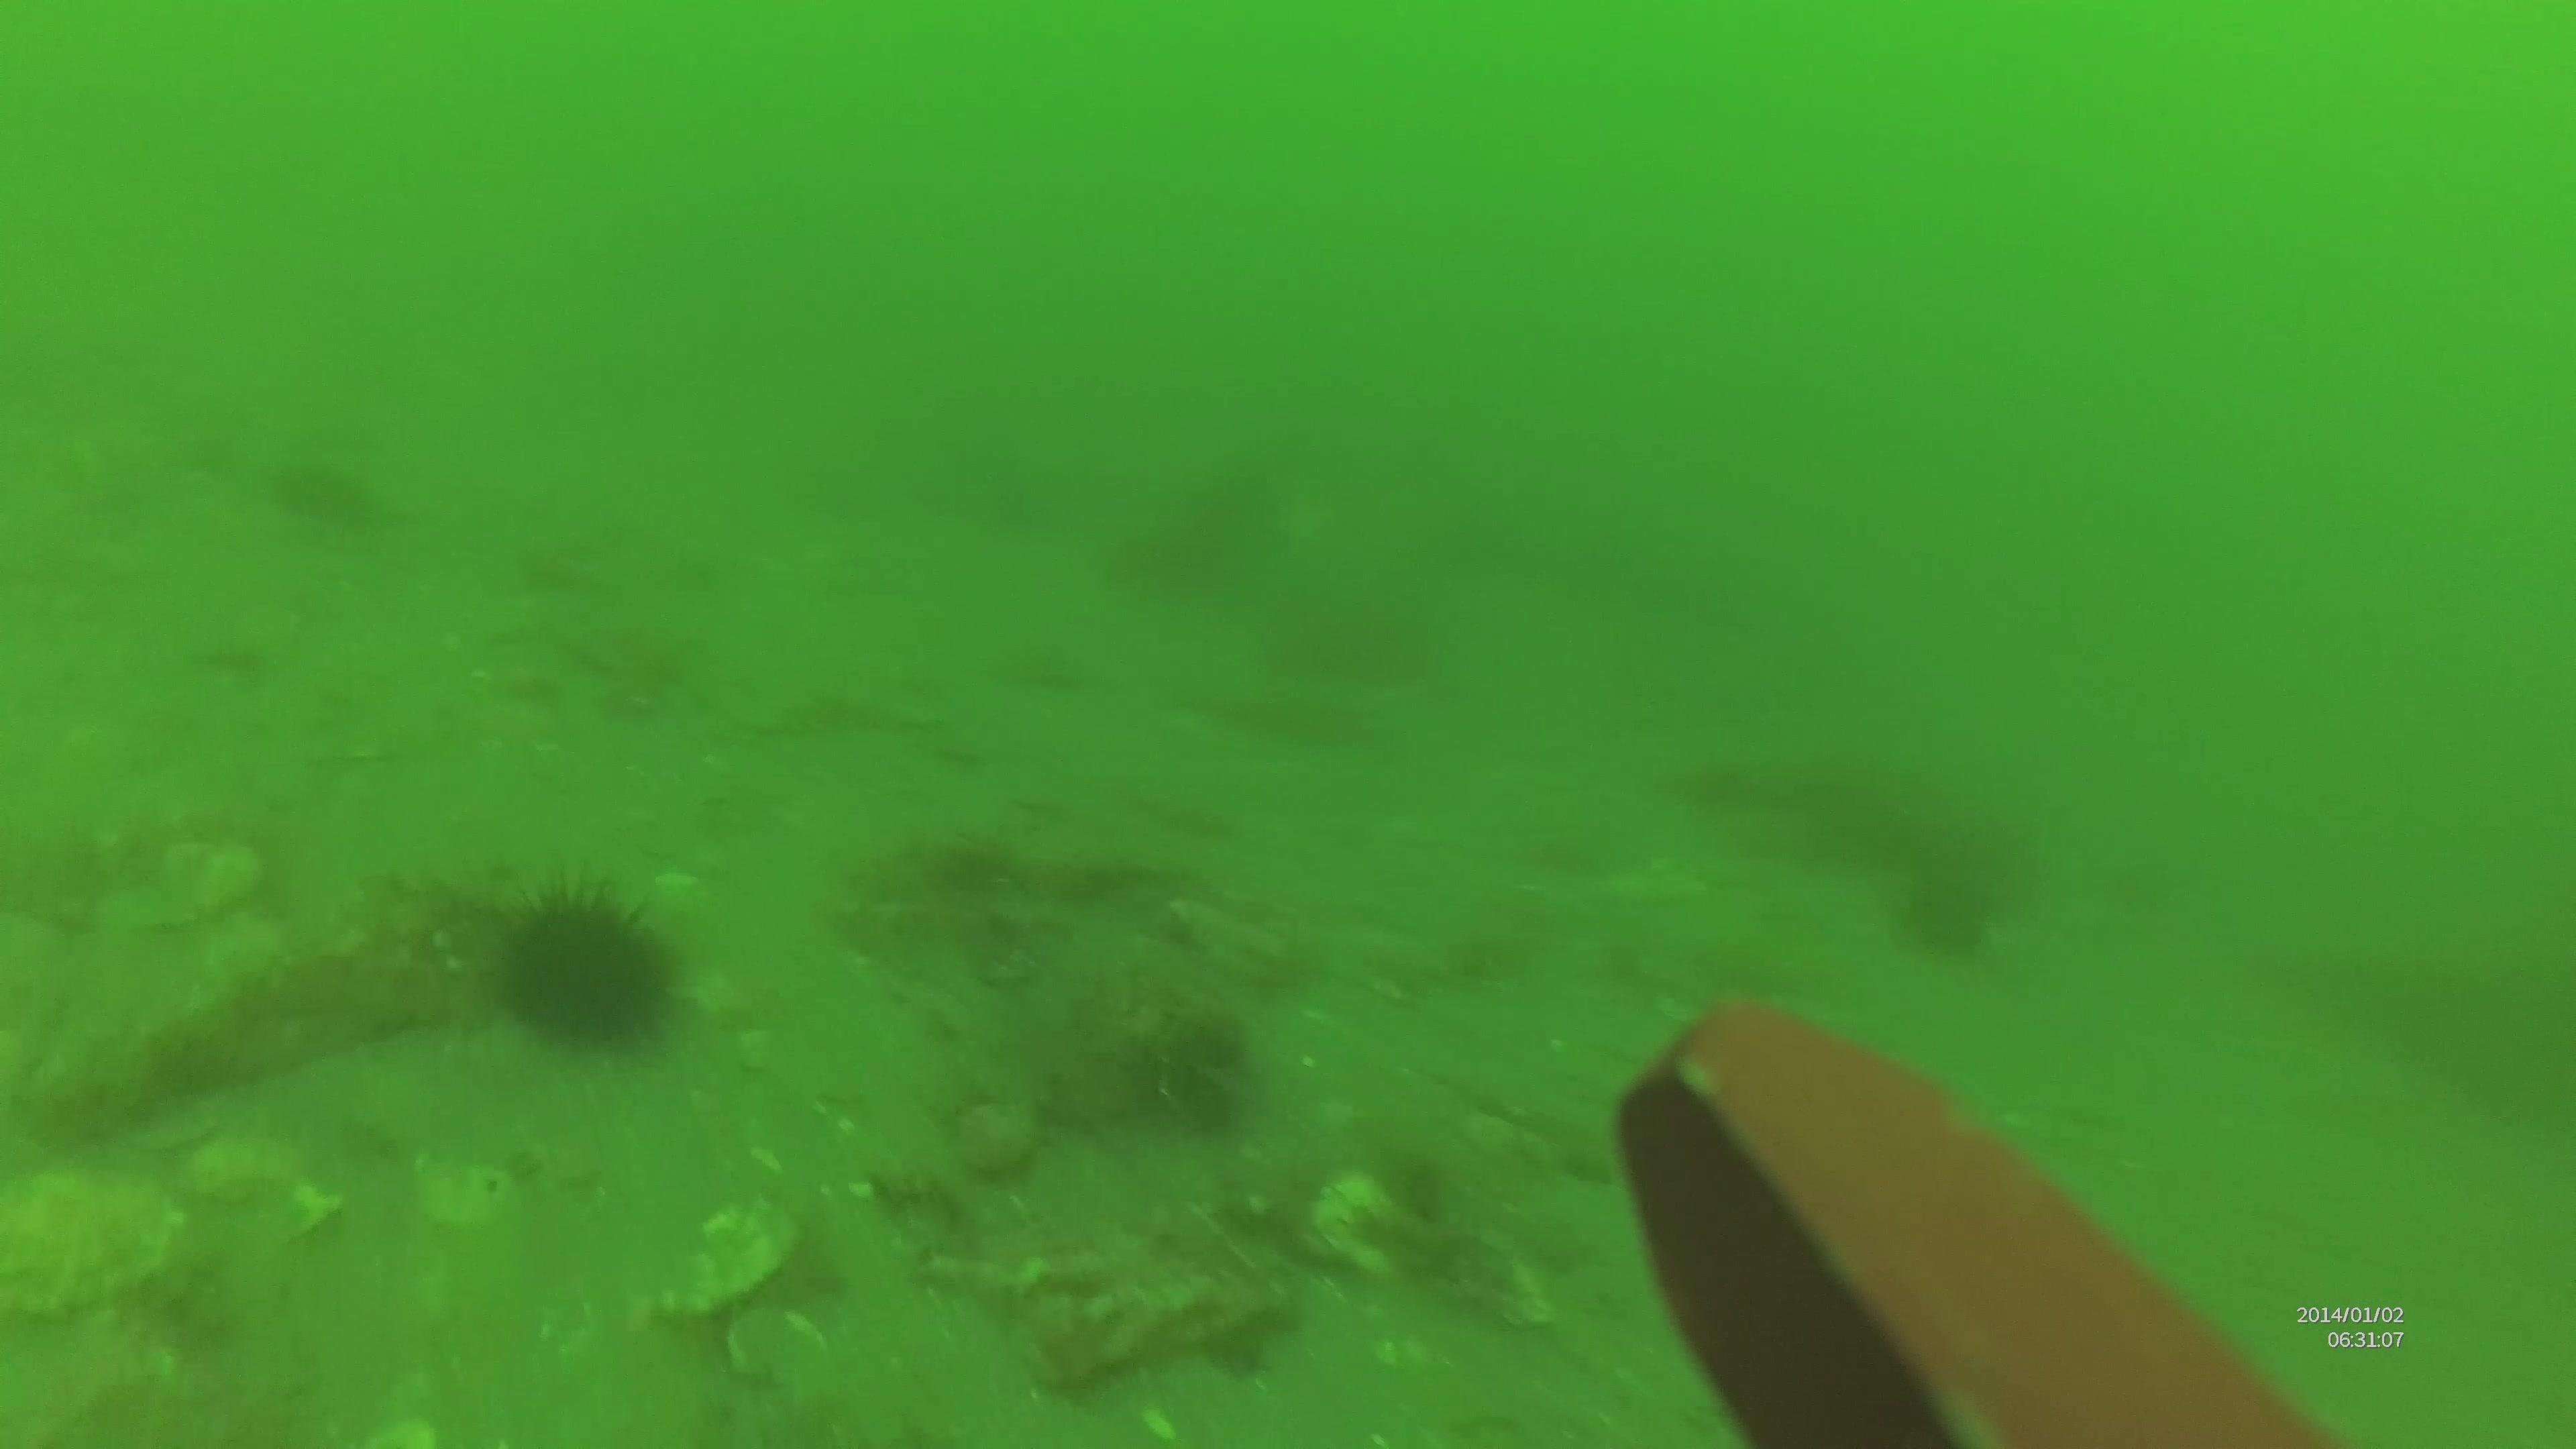echinus: (469, 872, 669, 1046)
